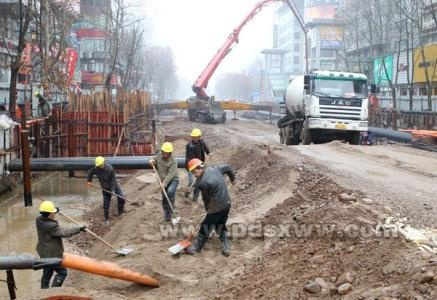red: (188, 155, 203, 177)
yellow: (38, 199, 56, 220), (159, 141, 173, 161), (93, 155, 105, 170), (189, 128, 201, 142)
